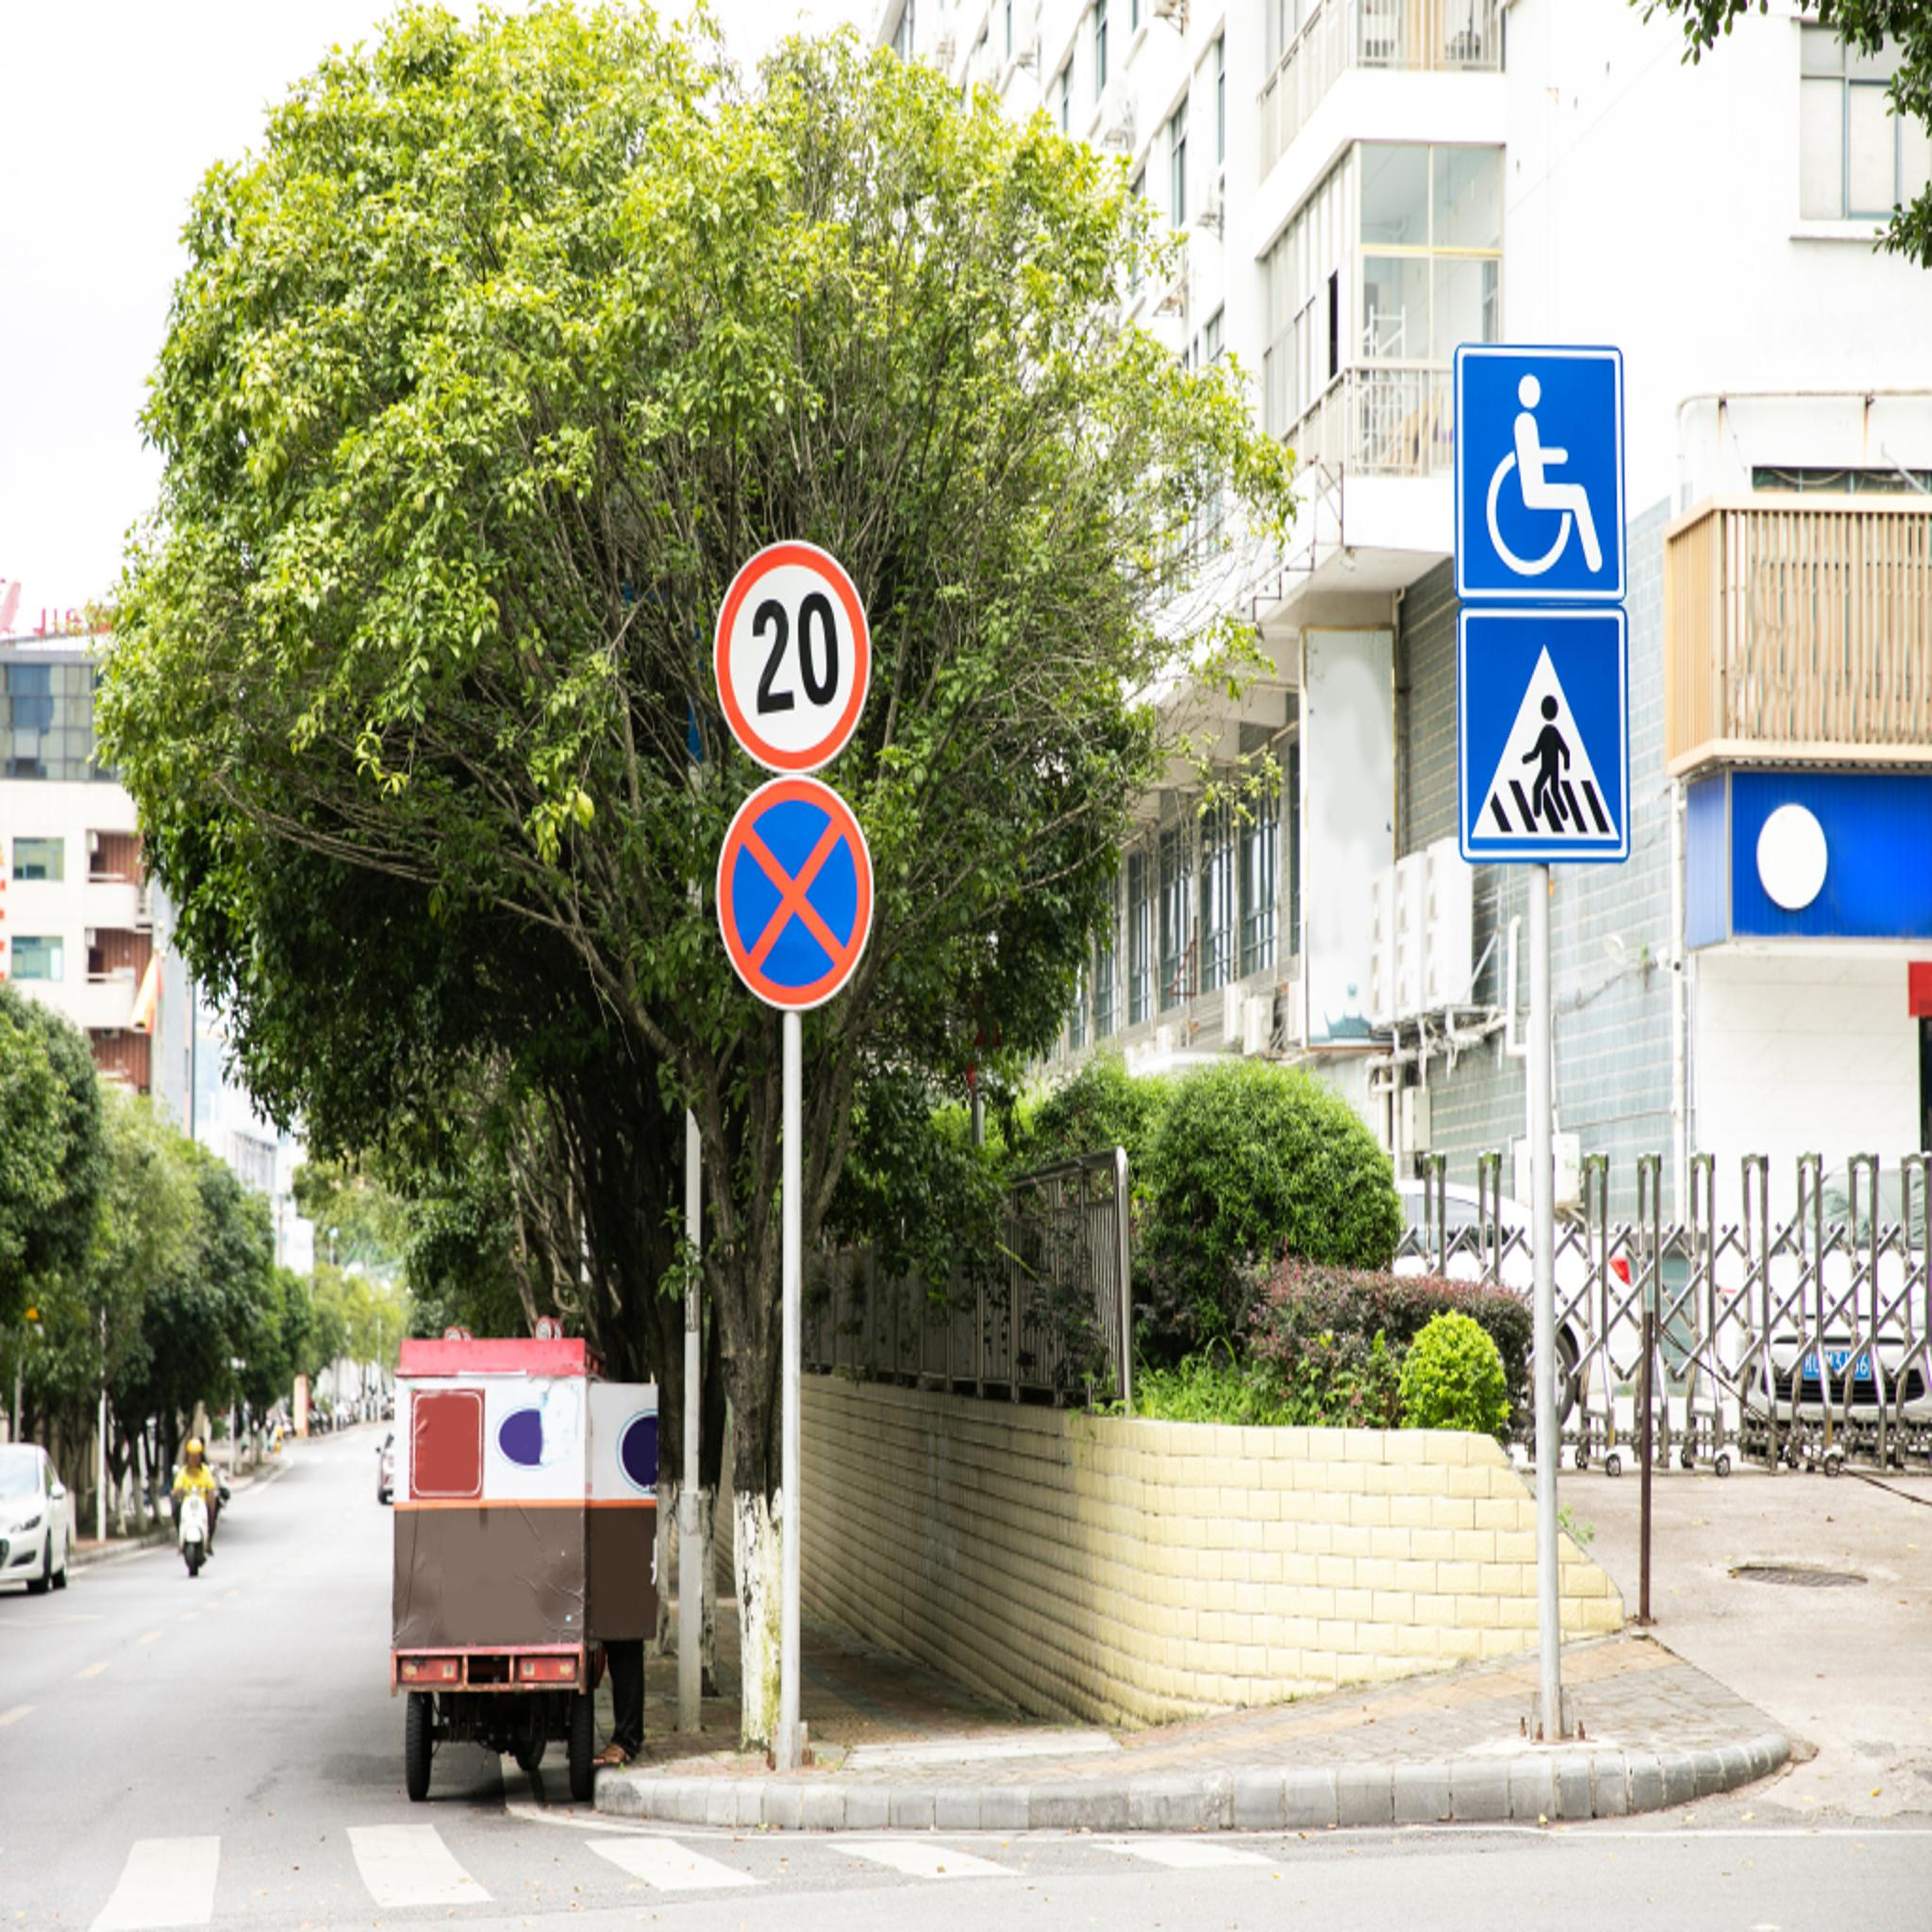pl20: (713, 545, 874, 775)
pn: (718, 778, 869, 1012)
